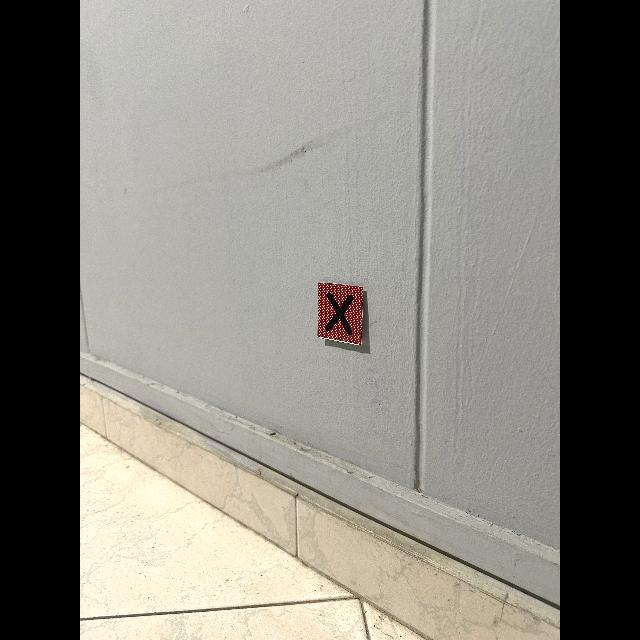X: (326, 293, 353, 335)
